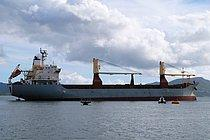Ship: (7, 47, 204, 109)
